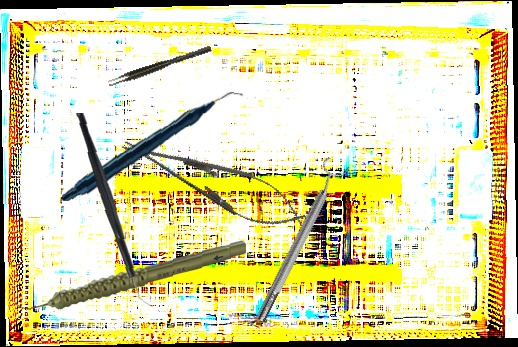Chopper: (69, 113, 162, 307)
Fixation Ring: (246, 156, 352, 326)
Handpiece: (62, 81, 244, 213), (12, 237, 249, 315)
Needle Holder: (113, 122, 313, 241)
Tissue Forceps: (107, 45, 213, 88)
